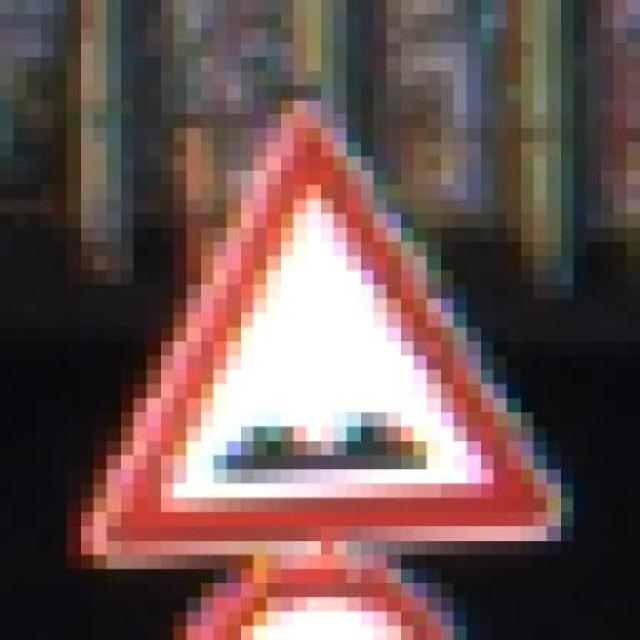Uneven Road: (53, 71, 587, 569)
